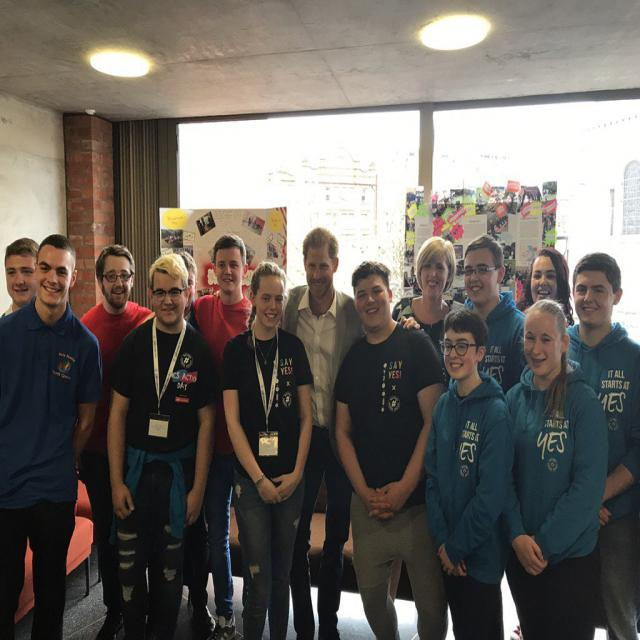body: (277, 223, 422, 639), (101, 249, 223, 639), (333, 258, 449, 640), (0, 232, 104, 639), (496, 297, 612, 639), (216, 259, 317, 639), (424, 307, 516, 639), (78, 242, 154, 639), (565, 252, 639, 639), (192, 232, 257, 639), (0, 234, 56, 640), (462, 234, 527, 396), (390, 234, 459, 364), (516, 245, 576, 330), (176, 248, 201, 334)
